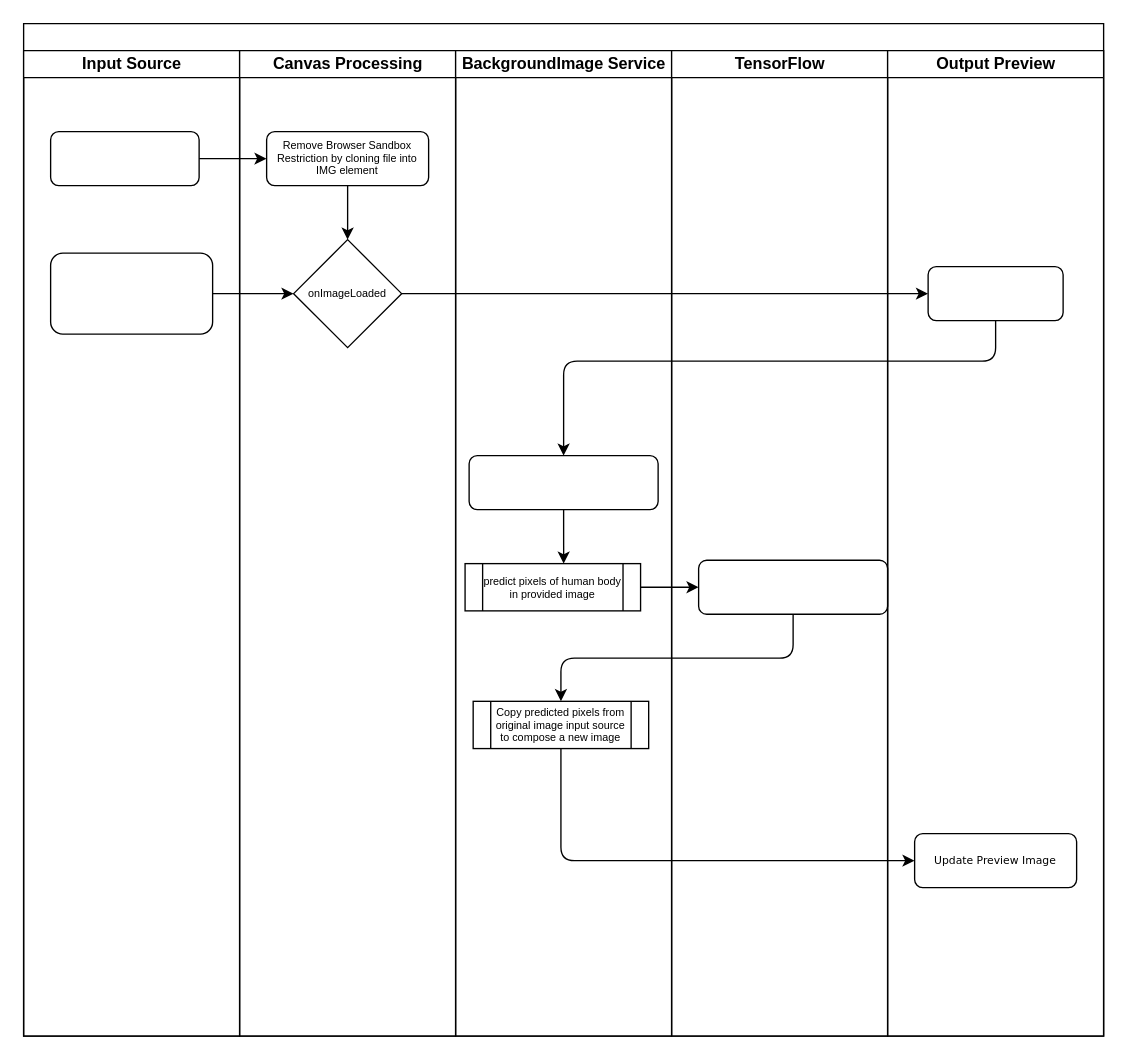
Image size: 1127x1060. Some labels were removed from this diagram. Each missing label, with the centre of its shape:
"_segmentPerson" goes at [792,586].
"Image uploaded by User" goes at [124,158].
"Images provided by Suggestion Widget" goes at [131,293].
"Remove()" goes at [563,482].
"UpdatePreview" goes at [995,293].
